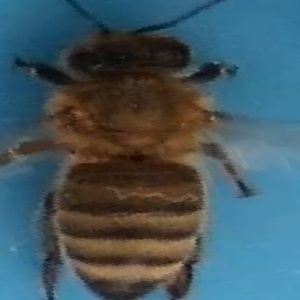bee: (7, 4, 263, 300)
